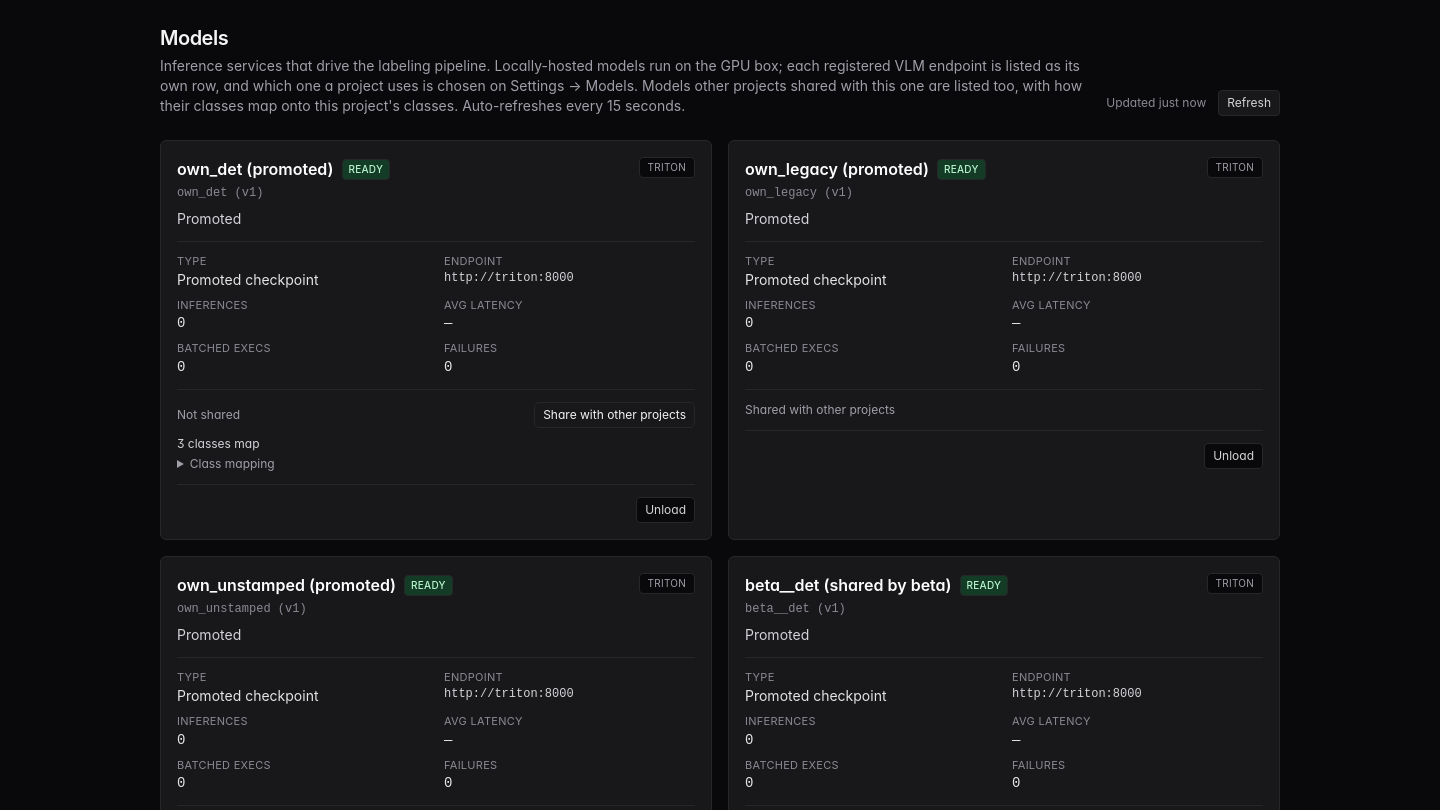
Test: /models sharing › a served refusal renders verbatim
Click the button "Share with other projects" at (615, 415), box [534,402,695,428]
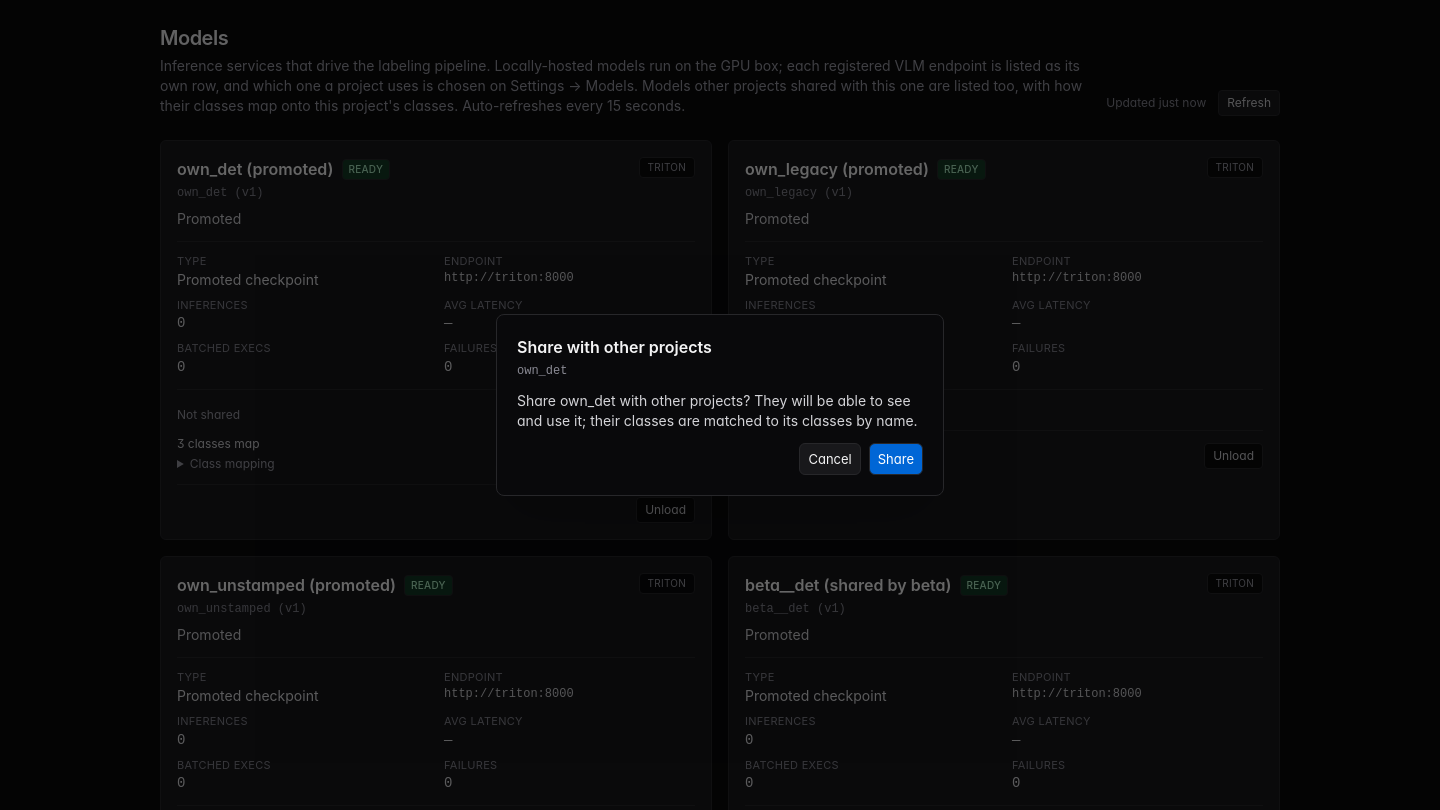
Click the button "Share" at (896, 459), box [869,443,923,475]
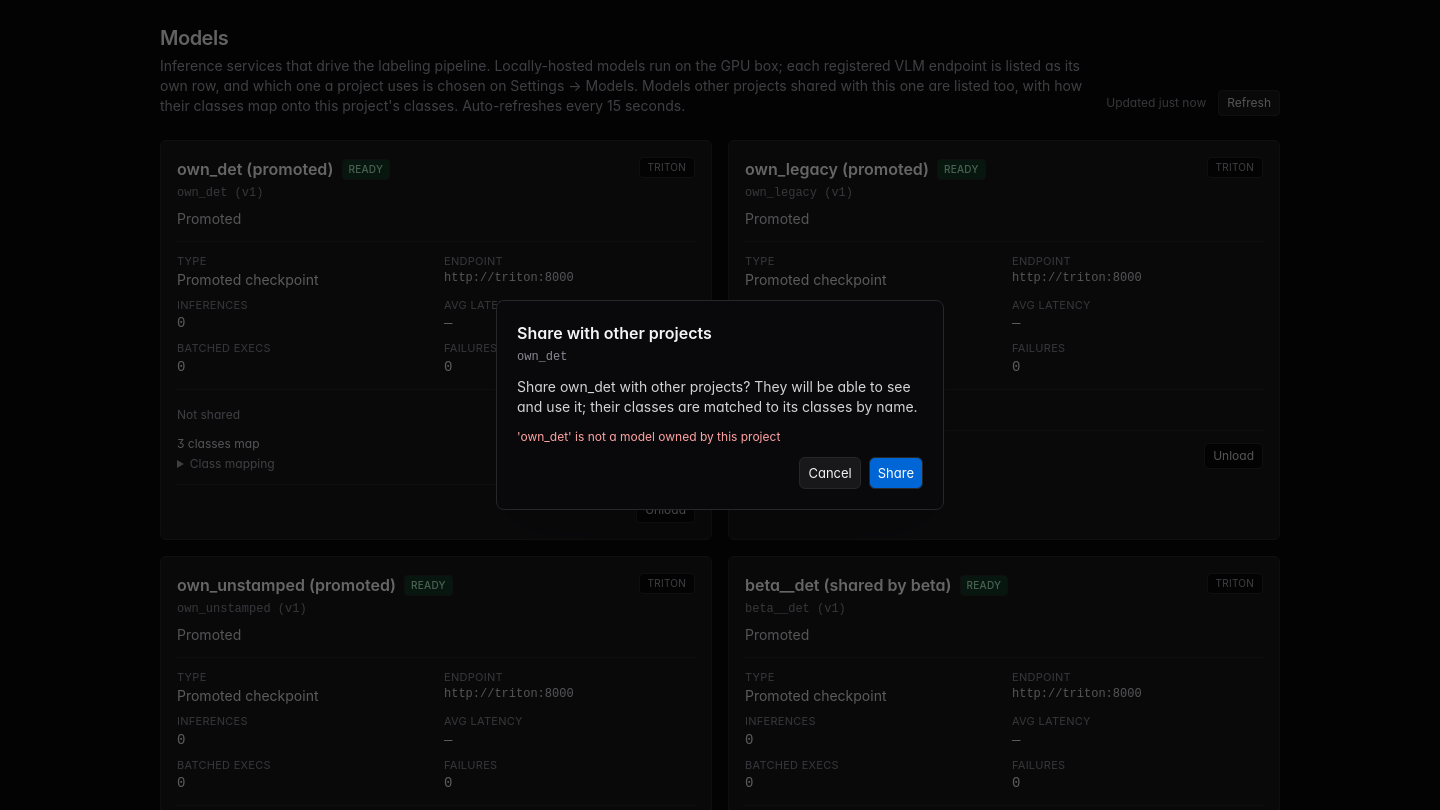
Expected: the element showing "'own_det' is not a model owned by this project" is shown, [517,429,780,444]
